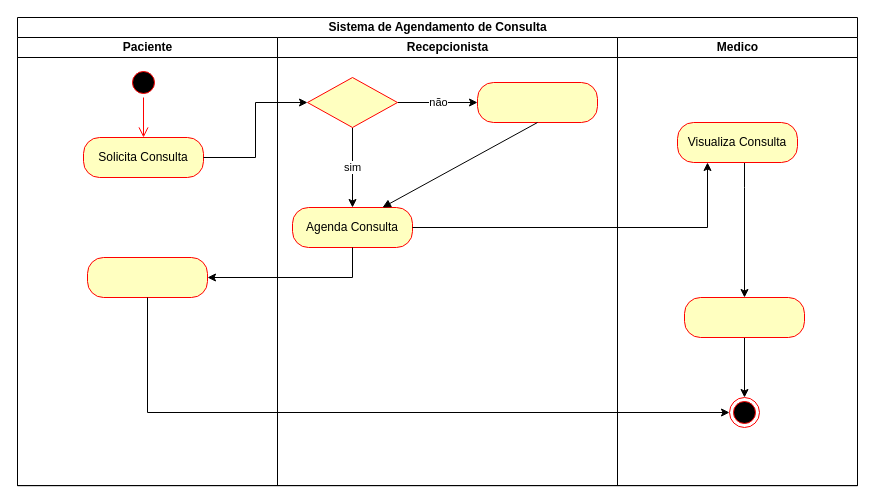
The diagram is 875 pixels wide and 504 high, and some of its shapes have lost their labels. Each missing label, with the centre of its shape:
Aguarda Consulta: pixel 147 277
Cadastra Paciente: pixel 537 102
já cadastrado: pixel 352 102
Realiza Consulta: pixel 744 317
